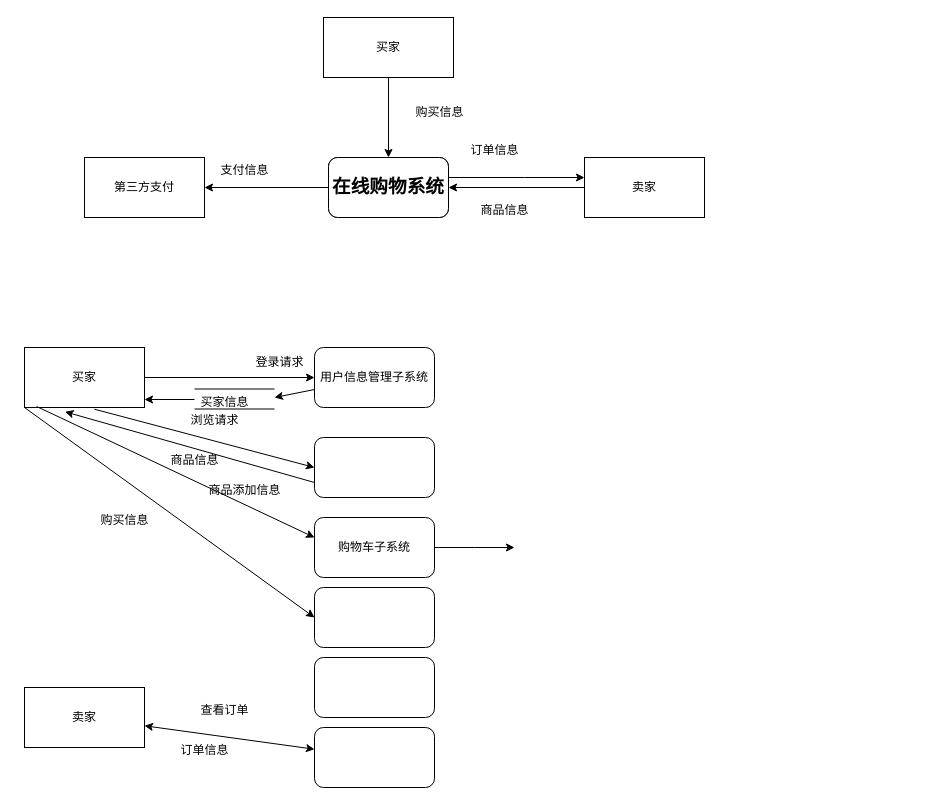
The diagram is 942 pixels wide and 805 high, and some of its shapes have lost their labels. The box of each missing label's shape, as (x1, y1, x2, y2) in pixels:
商品信息管理子系统: (314, 656, 434, 718)
商品浏览搜索子系统: (314, 436, 434, 498)
订单管理子系统: (314, 726, 434, 788)
购买子系统: (314, 586, 434, 648)
